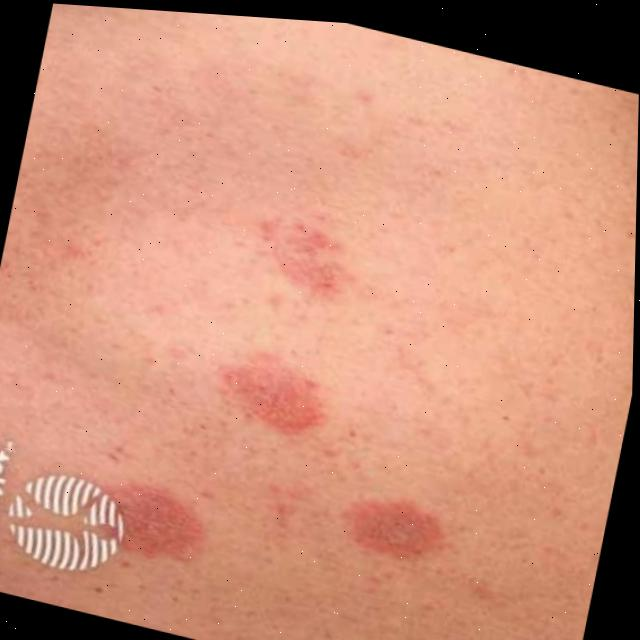Eczema: (68, 454, 217, 579), (319, 474, 459, 586), (257, 201, 361, 311), (220, 347, 329, 450)
